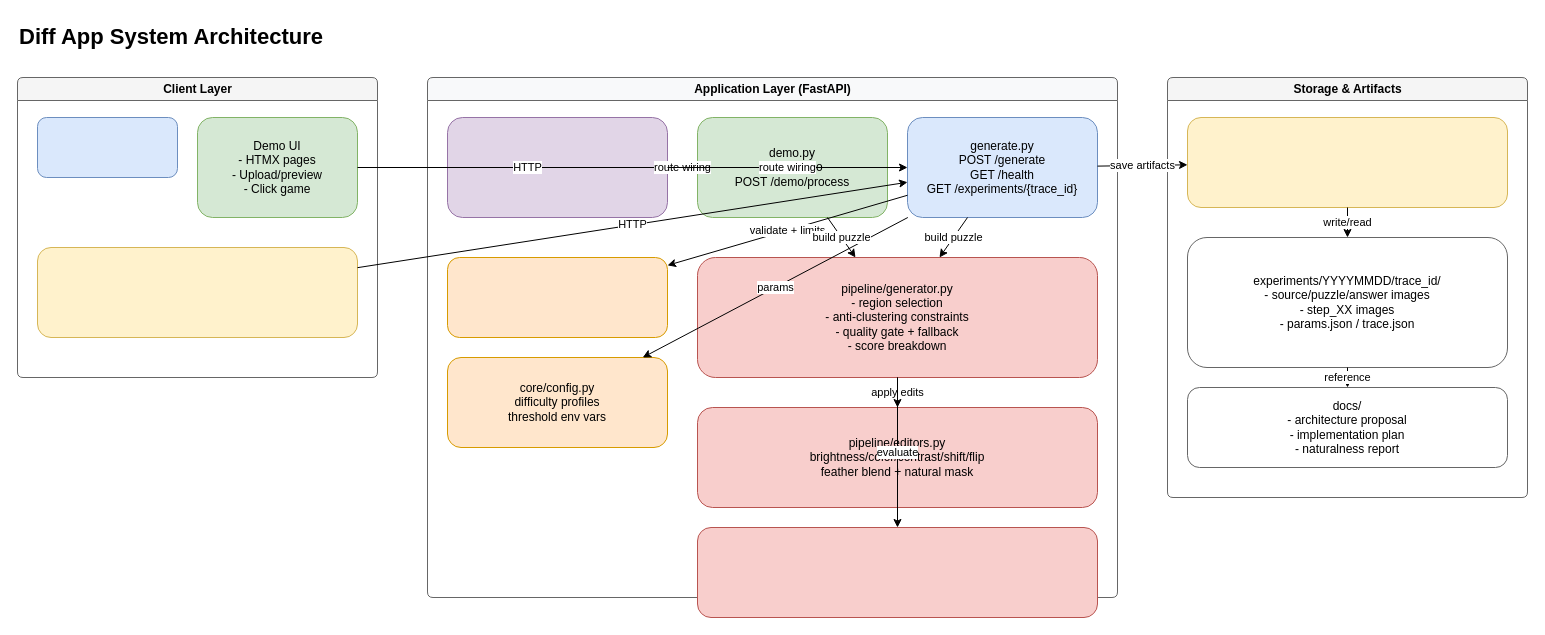
This 1545x635 diagram has some shape labels left out. Here are the shapes that lost their labels. From the top down, the centre of each, then its label:
At (107,147): "Browser".
At (557,167): "app_factory.py create_app() - mount routers - serve /demo-assets".
At (1347,162): "research/trace.py - trace_id - save/load trace log".
At (197,292): "API Consumer POST /generate GET /experiments/{trace_id}".
At (557,297): "core/security.py API key + rate limit".
At (897,572): "pipeline/naturalness.py mean abs diff + edge delta naturalness score".
